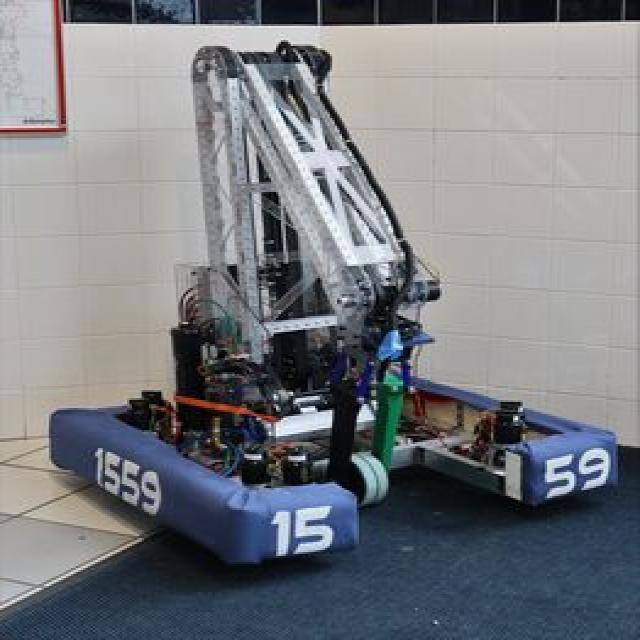robot: (50, 19, 624, 562)
